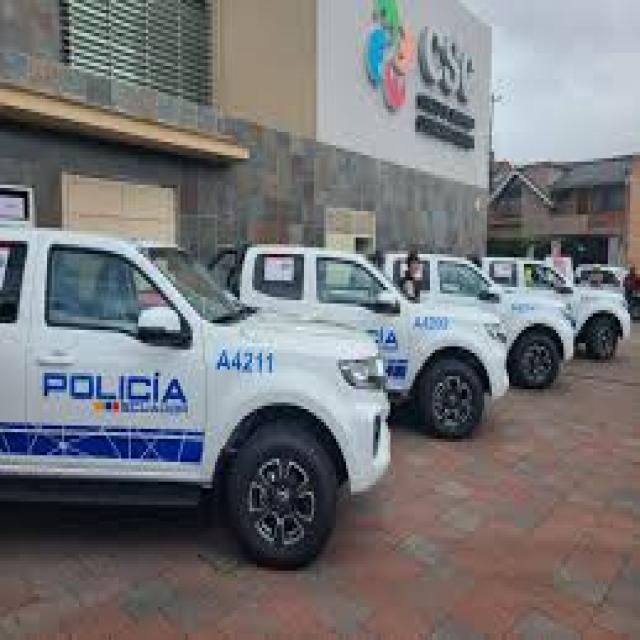CMT: (0, 232, 389, 551), (173, 238, 513, 445)
